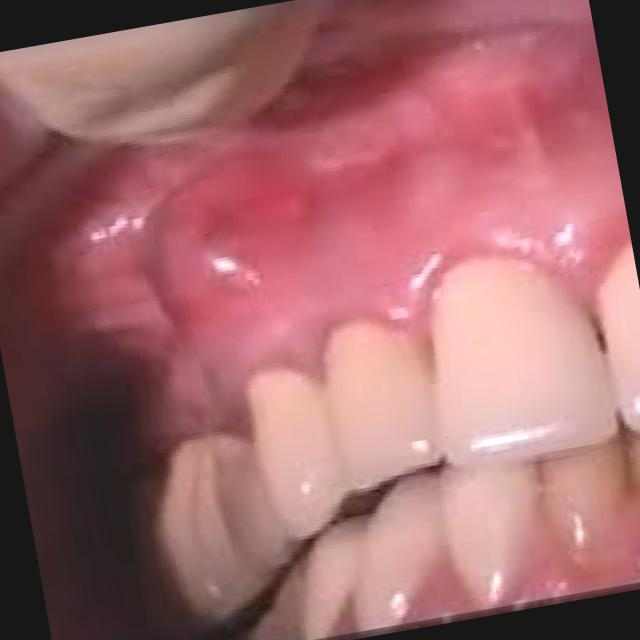abscess: (98, 132, 368, 410)
